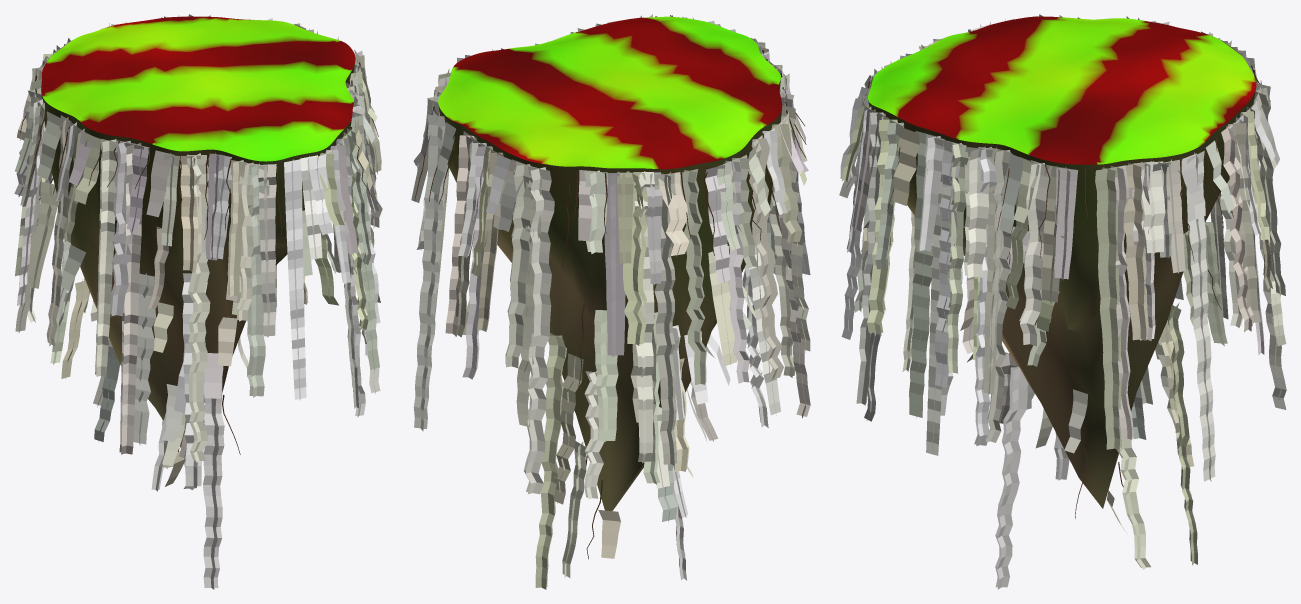
Rendered from SM_H05_Floater02.fbx.
3 views of the same model, side by side, from view 1: azimuth 30°, elevation 25°; view 2: azimuth 150°, elevation 25°; view 3: azimuth 270°, elevation 25° (orthographic). The views are drawn at different scales.
Visible parts, largest first — view 1: SM_H05_Floater02_Ivy, SM_H05_Floater02; view 2: SM_H05_Floater02_Ivy, SM_H05_Floater02; view 3: SM_H05_Floater02_Ivy, SM_H05_Floater02.
Boxes of the visible parts, x1,y1,x2,y2 form: SM_H05_Floater02_Ivy: [14, 14, 382, 589]; SM_H05_Floater02: [41, 16, 355, 447]; SM_H05_Floater02_Ivy: [411, 14, 810, 589]; SM_H05_Floater02: [438, 16, 782, 510]; SM_H05_Floater02_Ivy: [839, 14, 1286, 589]; SM_H05_Floater02: [868, 16, 1256, 508].
Size of the model in its own units: 32.16 by 45.47 by 35.01.
